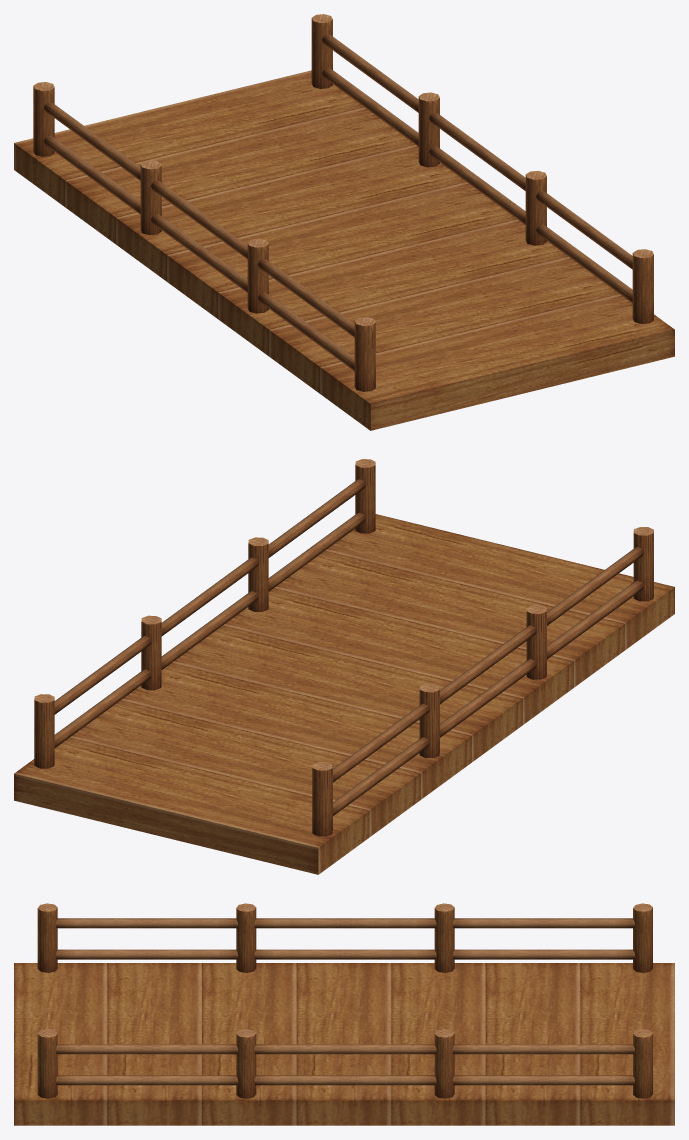
File: Bridge_Large.FBX
3 renders of one model, top to bottom at view 1: azimuth 30°, elevation 25°; view 2: azimuth 150°, elevation 25°; view 3: azimuth 270°, elevation 25°, orthographic. The views are drawn at different scales.
Parts seen in each view (by area): view 1: Bridge, Fence; view 2: Bridge, Fence; view 3: Bridge, Fence.
Part boxes in pixels (x1,y1,x2,y2): Bridge: [14, 70, 674, 430]; Fence: [33, 14, 653, 391]; Bridge: [14, 514, 674, 874]; Fence: [34, 459, 653, 836]; Bridge: [14, 963, 674, 1125]; Fence: [37, 903, 652, 1098].
Size of the model in its own units: 3.76 by 1.09 by 7.62.
